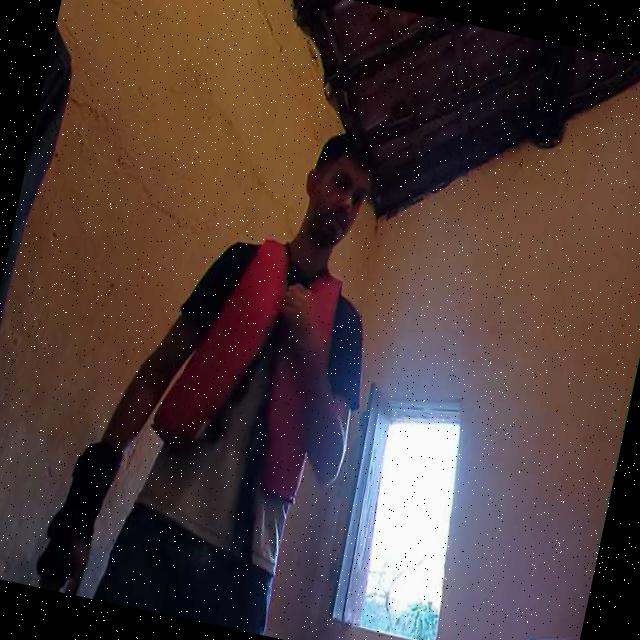colete: (157, 232, 353, 498)
pessoa: (99, 108, 416, 632)
